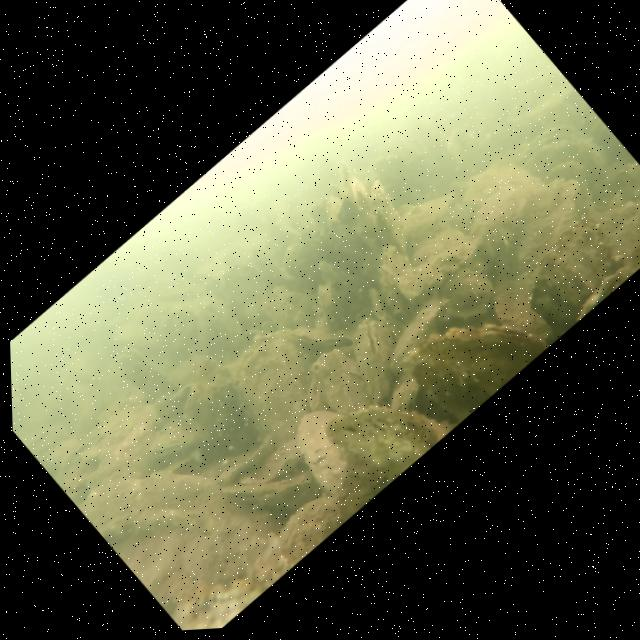Oyster-Closed: (395, 276, 551, 431), (315, 362, 452, 500), (505, 209, 637, 341), (219, 437, 322, 541), (328, 309, 423, 410), (372, 290, 464, 376), (354, 237, 435, 323), (236, 431, 312, 504), (284, 301, 350, 369), (310, 246, 370, 312), (305, 277, 358, 336), (378, 365, 430, 418), (266, 288, 316, 341)
Oyster-Indeterminate: (449, 164, 628, 341), (210, 315, 346, 455), (166, 348, 280, 471), (281, 395, 380, 501), (287, 339, 386, 444), (455, 178, 543, 265), (349, 171, 425, 256), (428, 253, 506, 334)
Oyster-Open: (106, 333, 180, 414), (143, 413, 204, 474)
